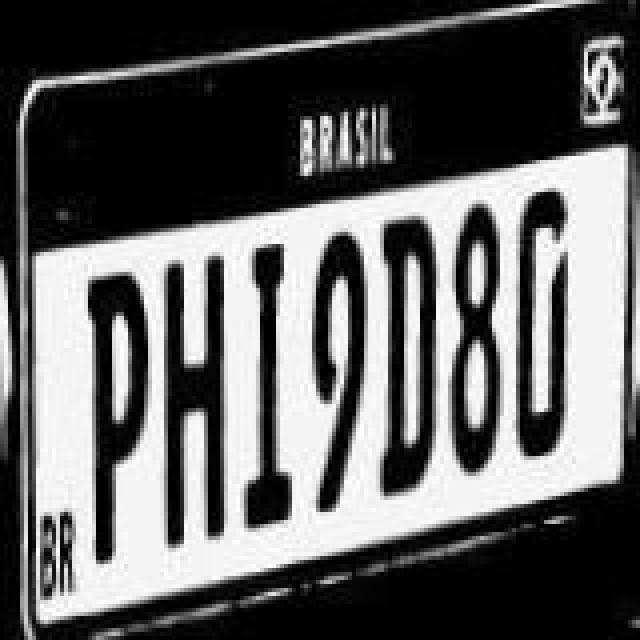8: (438, 186, 514, 470)
9: (296, 220, 376, 508)
D: (366, 200, 442, 492), (506, 172, 582, 448)
H: (160, 240, 236, 536)
I: (230, 232, 310, 520)
P: (86, 258, 158, 554)
